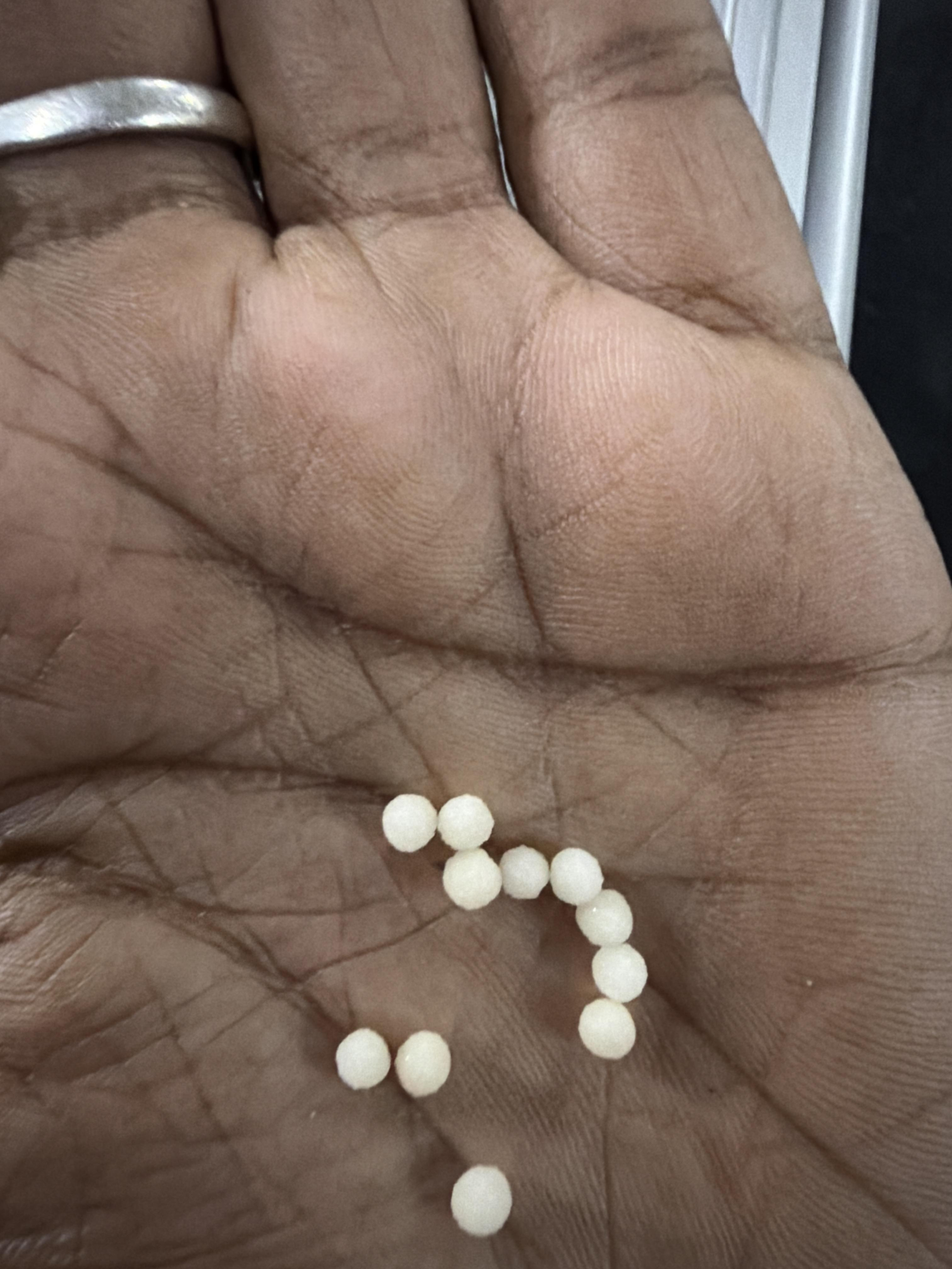pill: (451, 1165, 512, 1237), (394, 1030, 451, 1097), (443, 848, 502, 910), (578, 999, 635, 1059), (575, 889, 633, 946), (592, 943, 648, 1002), (336, 1028, 390, 1089), (382, 794, 437, 852), (437, 795, 493, 851), (550, 847, 603, 905), (500, 845, 549, 899)
